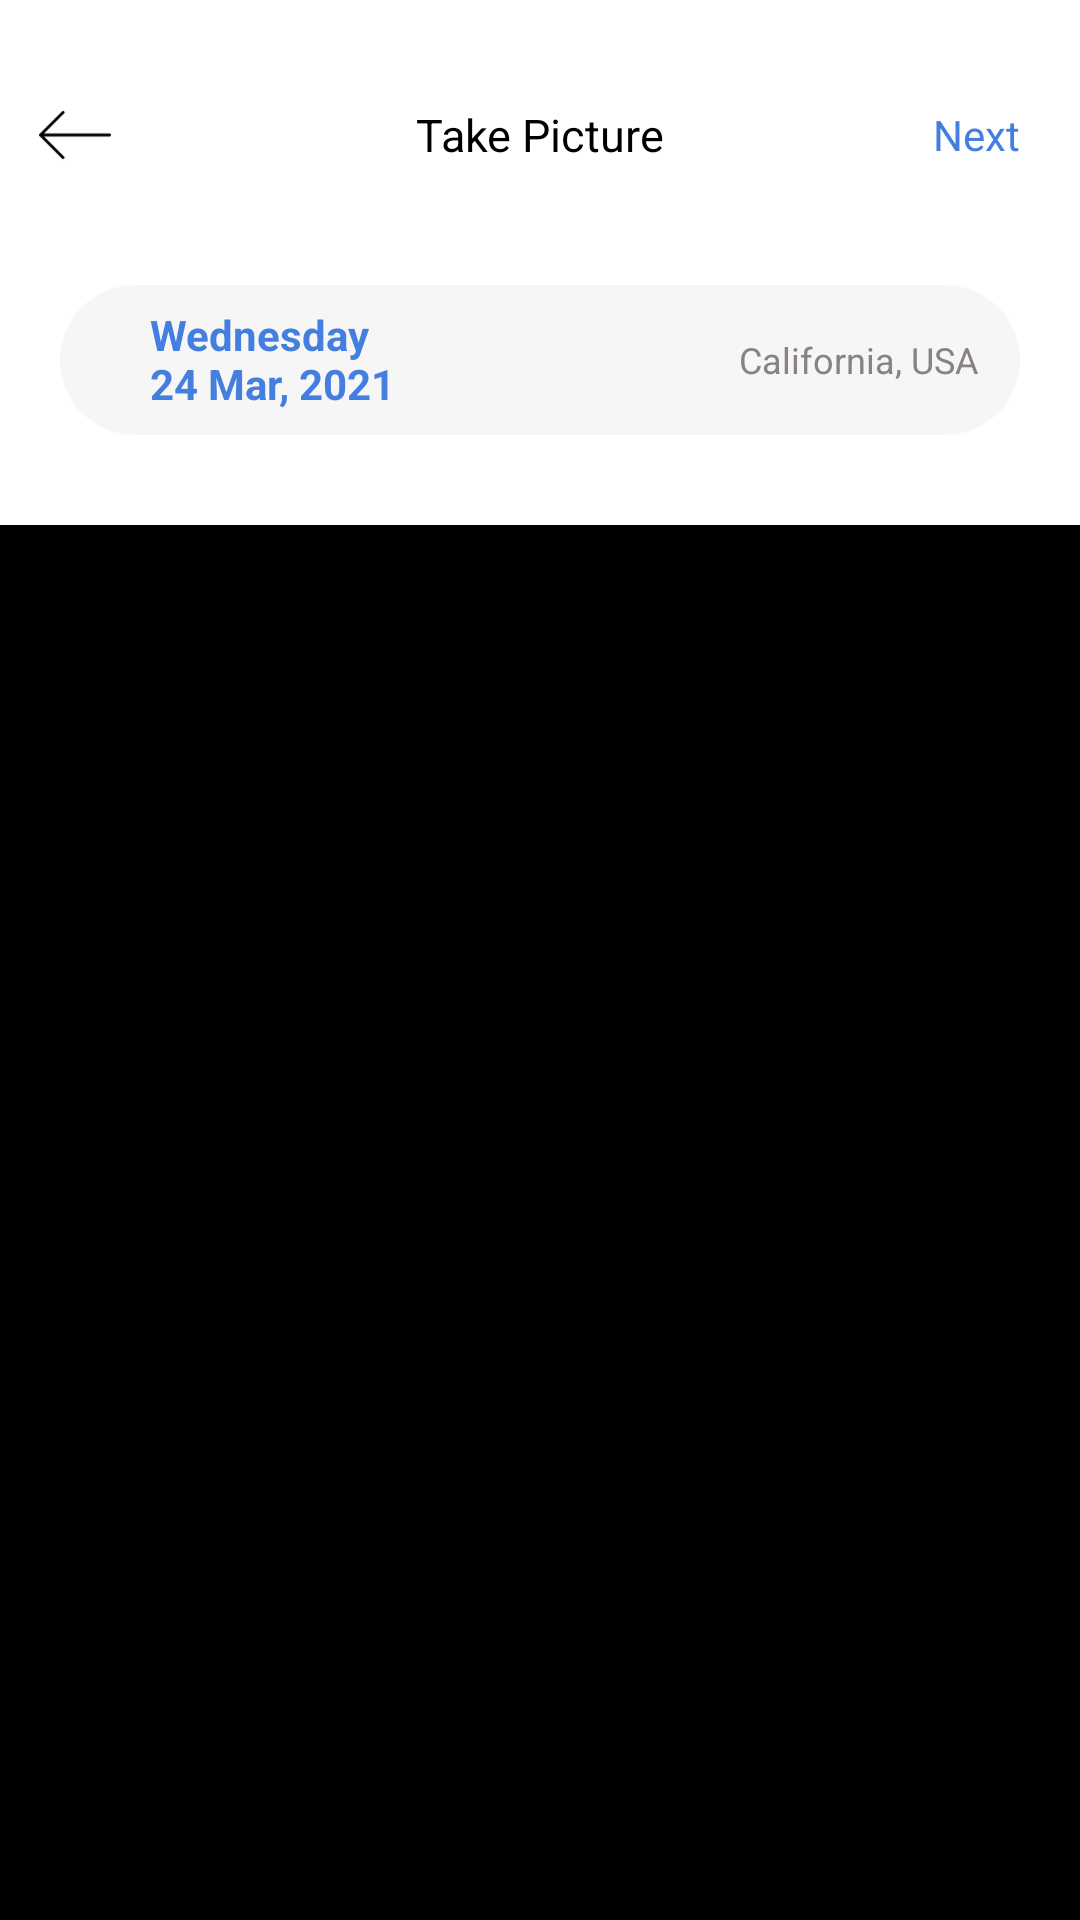

Locate icon controls on the screen. Image size 1080*1920, boxes as (x1, y1, x2, y2).
backarrow: (39, 111, 111, 159)
